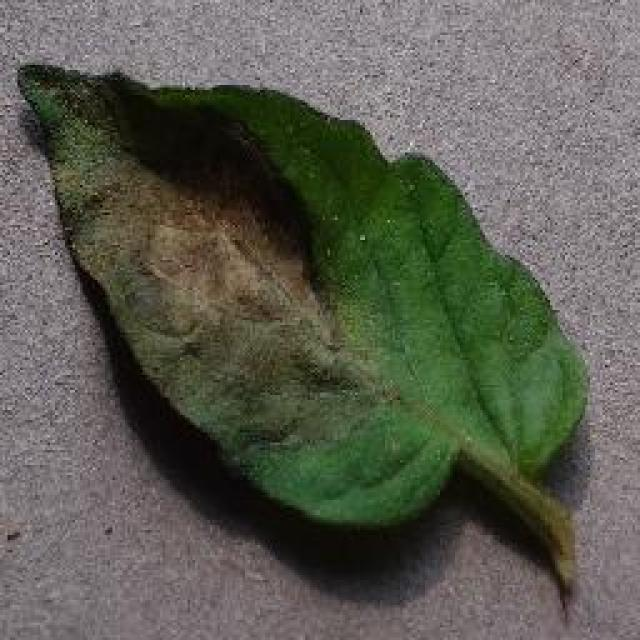Tomato Late Blight: (30, 73, 348, 460)
